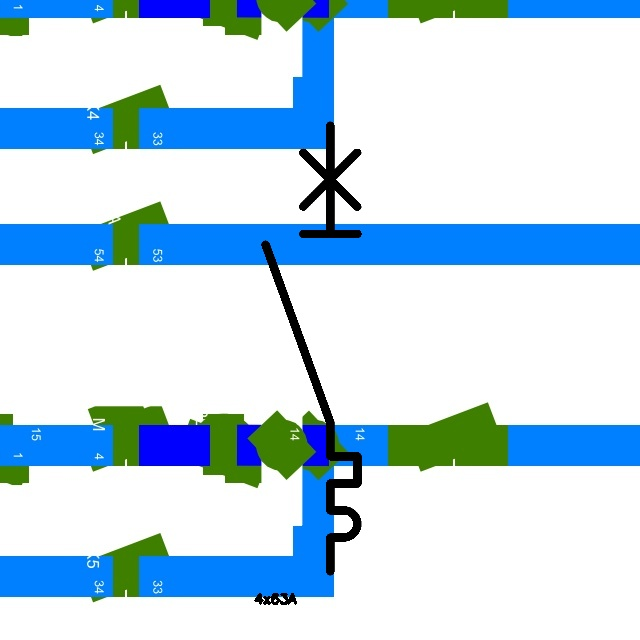interruptor_termomagnetico: (254, 114, 369, 583)
